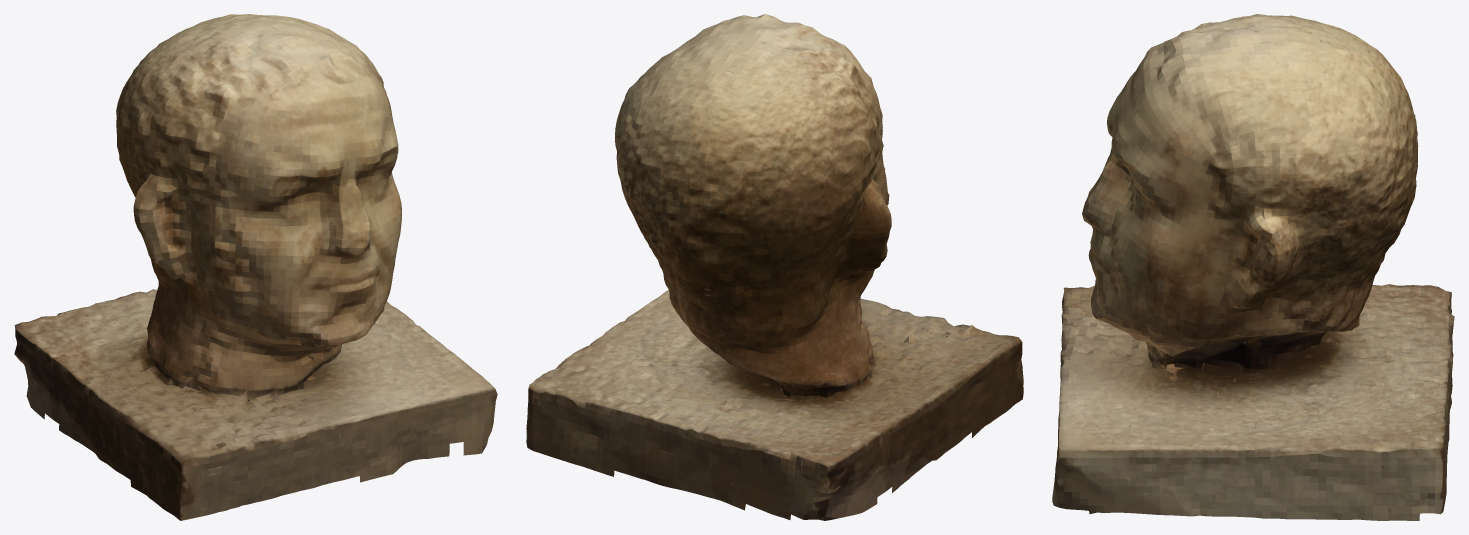
The model's file is trans.gltf.
3 renders of one model, left to right at view 1: azimuth 30°, elevation 25°; view 2: azimuth 150°, elevation 25°; view 3: azimuth 270°, elevation 25°, orthographic. The views are drawn at different scales.
Visible parts, largest first — view 1: instant2; view 2: instant2; view 3: instant2.
Part boxes in pixels (x1,y1,x2,y2): instant2: (14, 14, 497, 520); instant2: (526, 14, 1023, 520); instant2: (1052, 14, 1454, 520).
Bounding box in the file's own units: 1.86 × 2.13 × 1.88.
